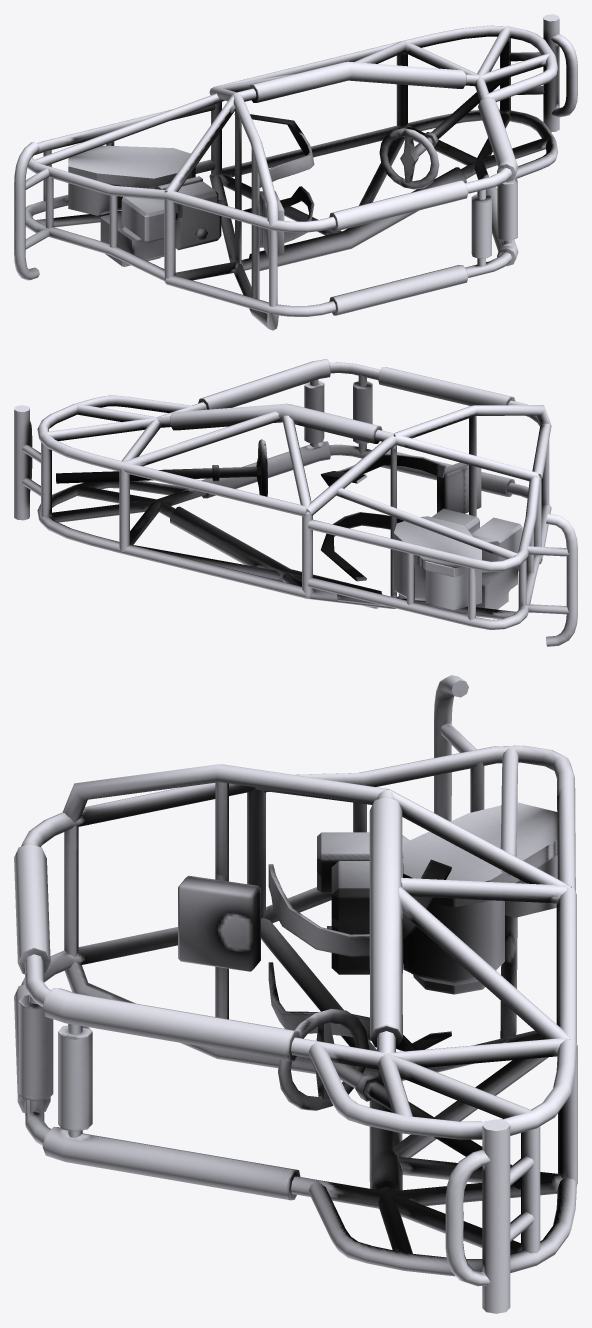
The model's file is Details.obj.
3 renders of one model, top to bottom at view 1: azimuth 30°, elevation 25°; view 2: azimuth 150°, elevation 25°; view 3: azimuth 270°, elevation 25°, orthographic. The views are drawn at different scales.
Visible parts, largest first — view 1: Line010; view 2: Line010; view 3: Line010.
Part boxes in pixels (x1=…): Line010: x1=14, y1=14, x2=577, y2=330; Line010: x1=14, y1=359, x2=577, y2=646; Line010: x1=14, y1=675, x2=577, y2=1313.
Bounding box in the file's own units: 2.37 × 0.7479 × 1.24.
1 material, 1 textured.
